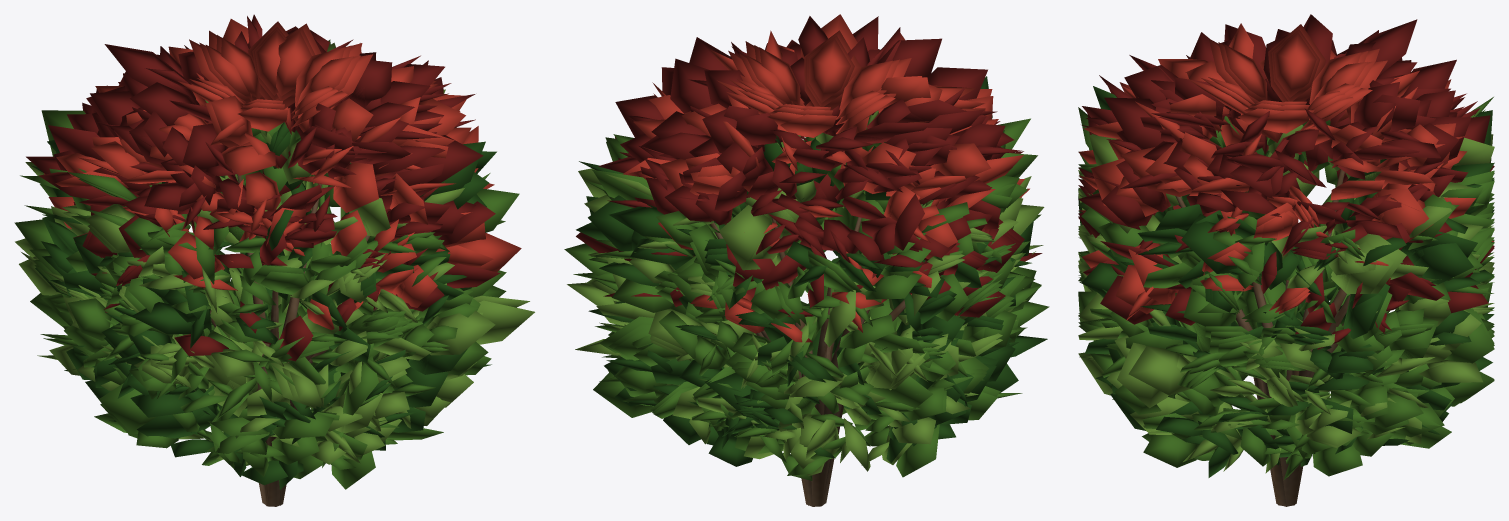
The model's file is MV_Shrub_RedTip_Large.fbx.
The picture shows the model from 3 angles, left to right: view 1: azimuth 30°, elevation 25°; view 2: azimuth 150°, elevation 25°; view 3: azimuth 270°, elevation 25°; orthographic projection.
Parts seen in each view (by area): view 1: LOD0_Mesh, LOD2_Mesh, LOD1_Mesh; view 2: LOD0_Mesh, LOD2_Mesh, LOD1_Mesh; view 3: LOD0_Mesh, LOD2_Mesh, LOD1_Mesh.
Part boxes in pixels (<box>): LOD0_Mesh: <box>19,14,491,506</box>; LOD2_Mesh: <box>14,19,534,489</box>; LOD1_Mesh: <box>15,26,505,506</box>; LOD0_Mesh: <box>585,30,1041,506</box>; LOD2_Mesh: <box>567,14,1049,477</box>; LOD1_Mesh: <box>564,16,1041,506</box>; LOD0_Mesh: <box>1078,26,1494,506</box>; LOD2_Mesh: <box>1078,14,1494,466</box>; LOD1_Mesh: <box>1078,23,1494,506</box>.
Size of the model in its own units: 1.3 by 1.5 by 1.3.
